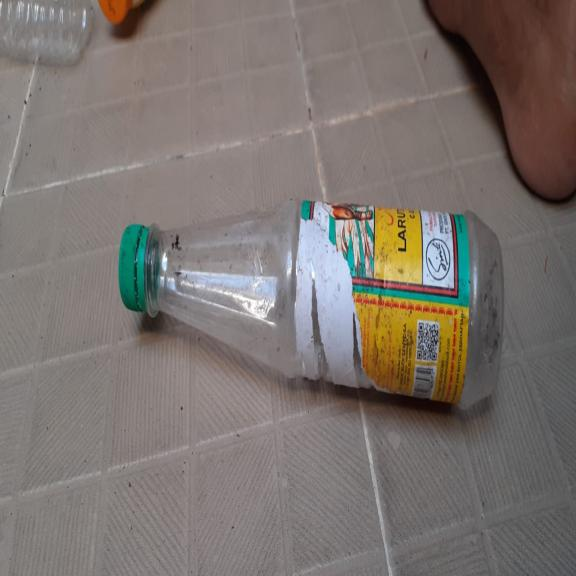Plastik: (117, 194, 505, 421), (0, 2, 94, 73)
